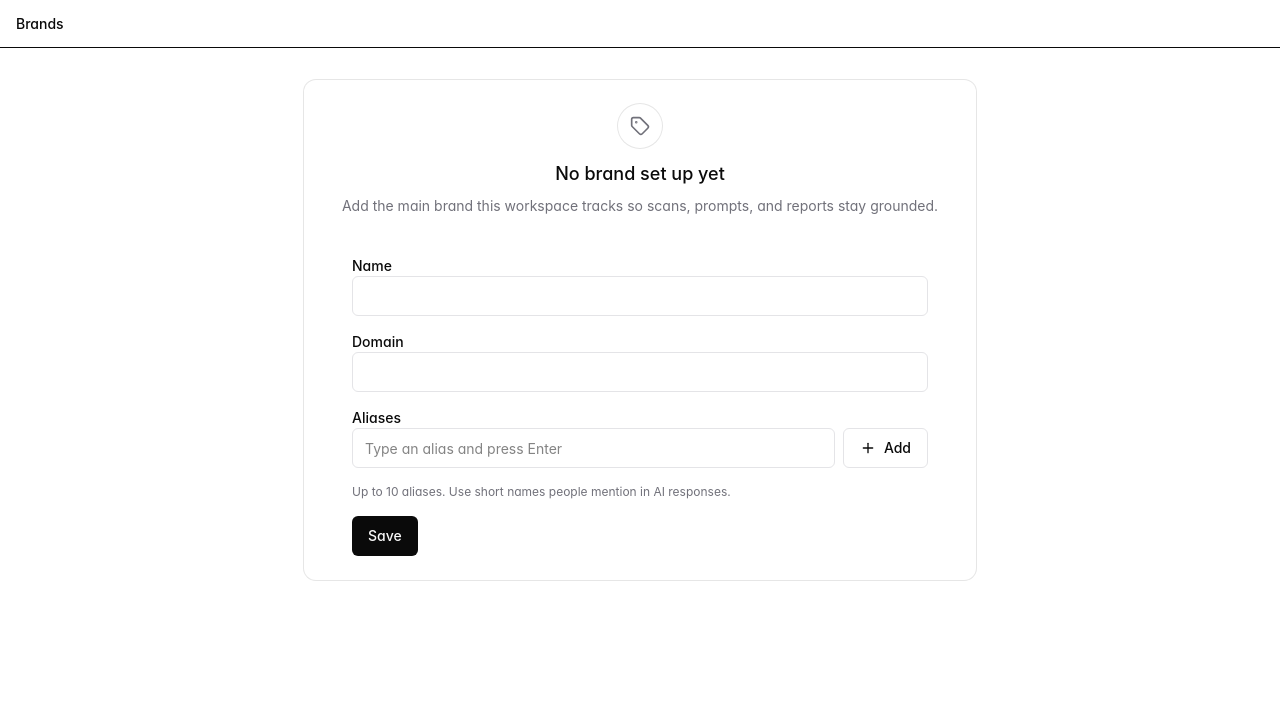
Test: BrandsPage › shows validation errors
In the field labelled "Name": (640, 296) [352, 276, 928, 316], type "Broken Brand"
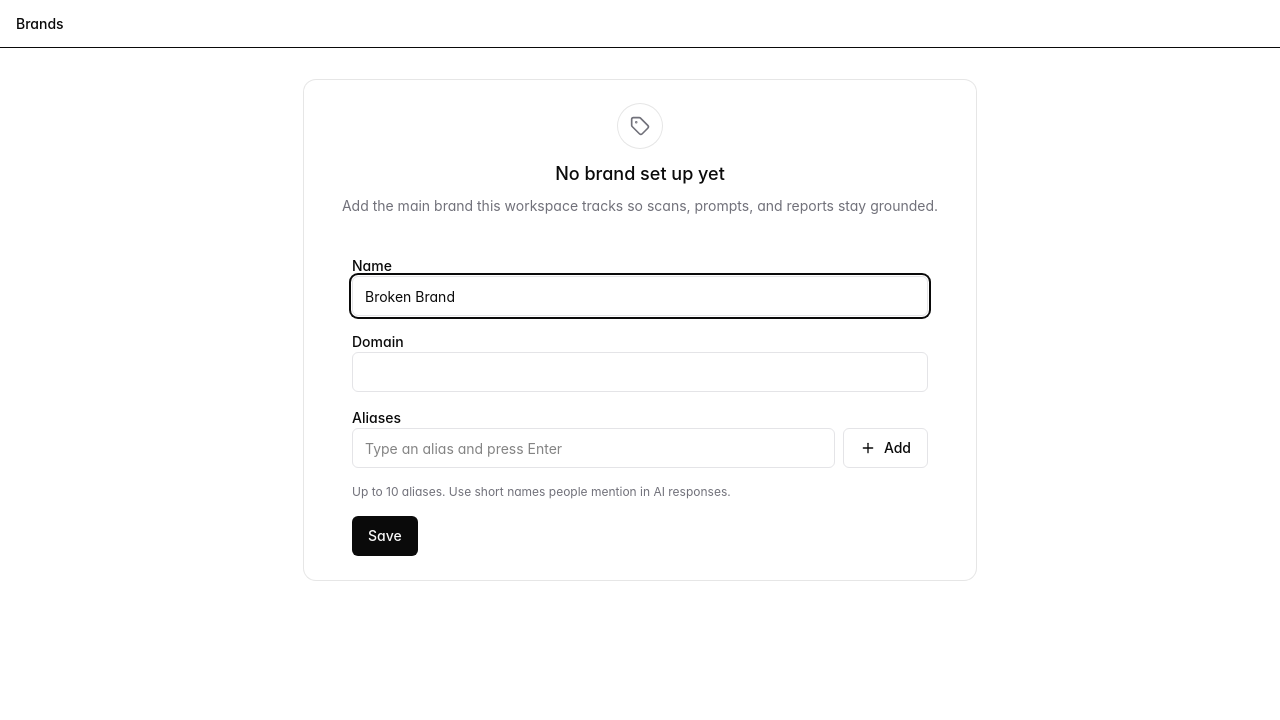
In the field labelled "Domain": (640, 372) [352, 352, 928, 392], type "not-a-domain"
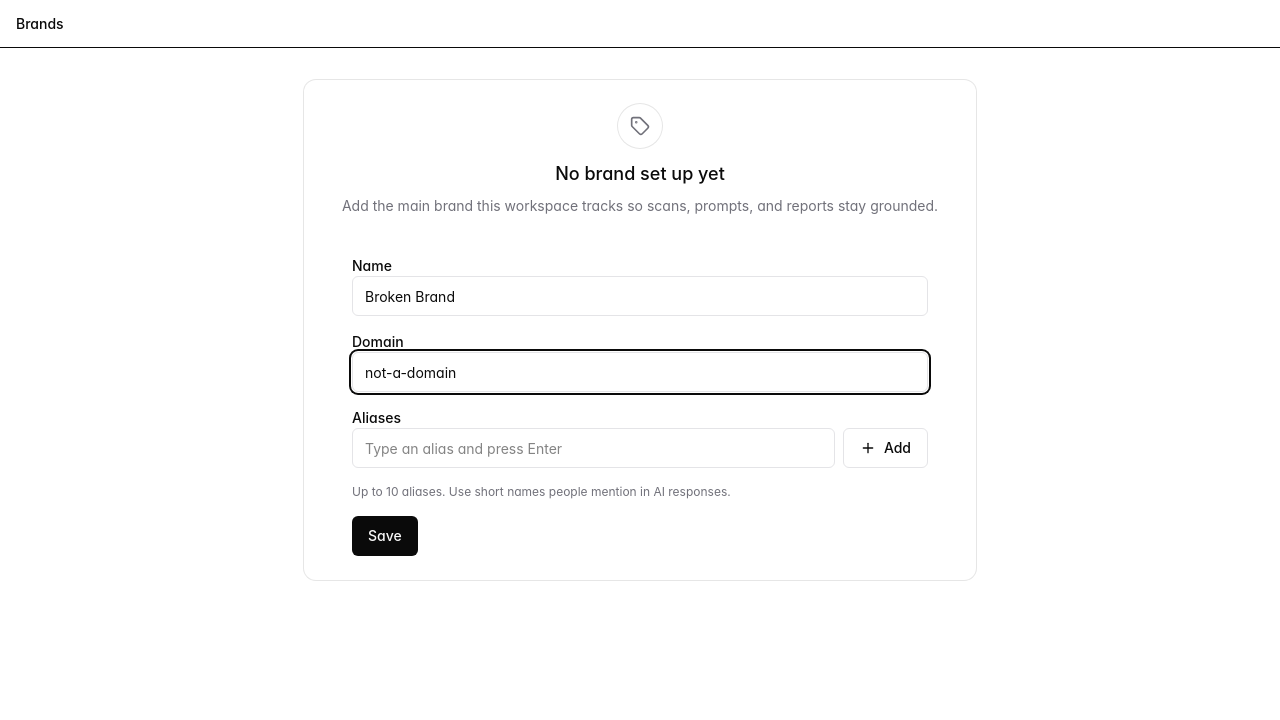
Click the button "Save": click(385, 536) [352, 516, 418, 556]
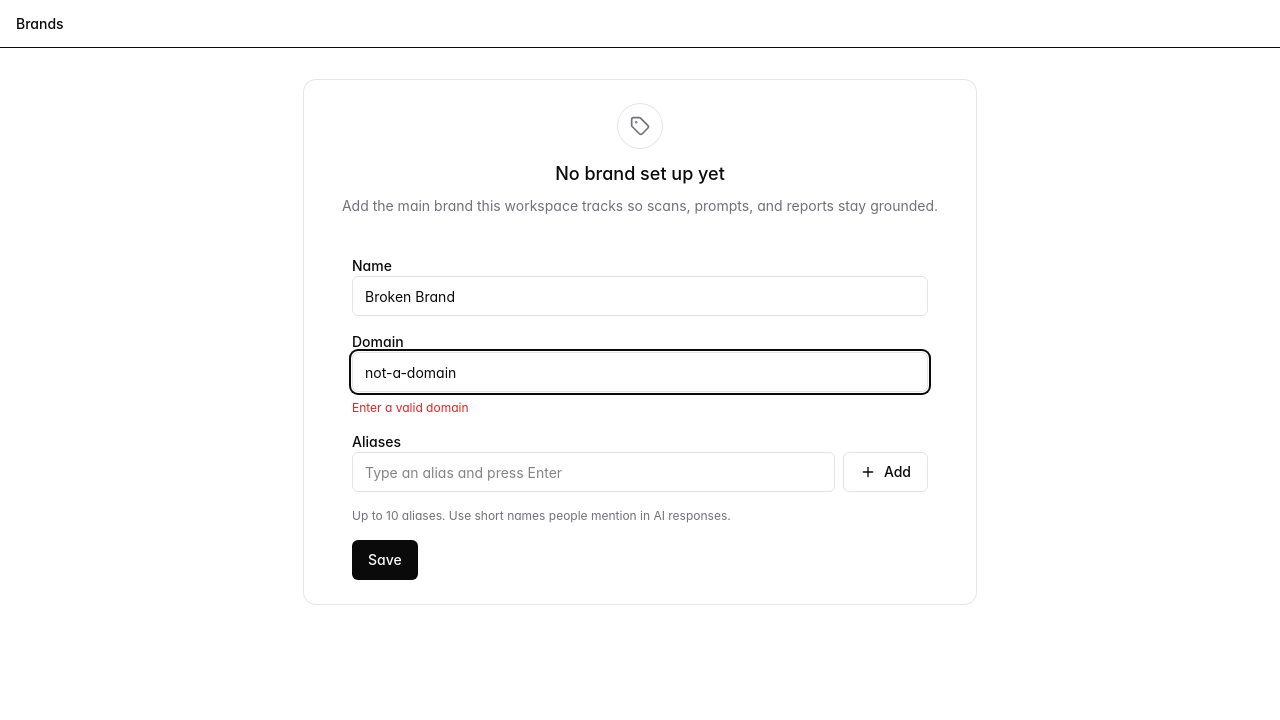
Check: the text "Enter a valid domain" is shown, box [352, 400, 468, 415]
